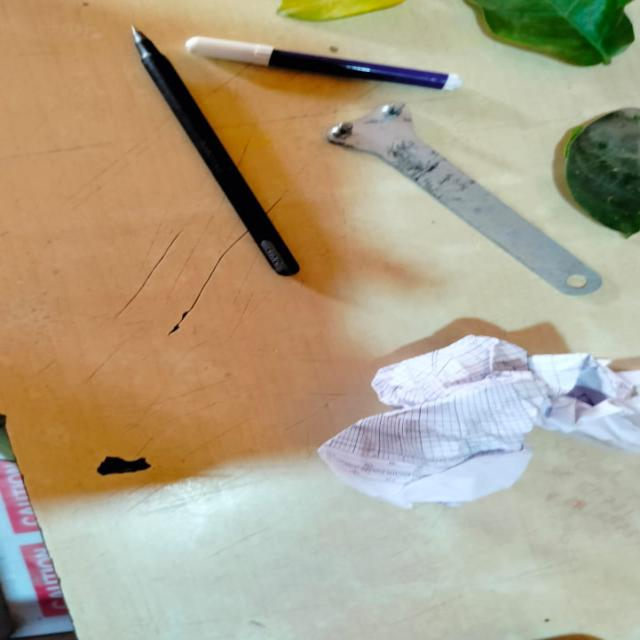Leaves: (458, 0, 636, 70), (558, 108, 640, 239), (276, 0, 411, 26)
Metal: (323, 108, 604, 302)
Paper: (315, 338, 601, 512)
Pen: (129, 28, 298, 279), (187, 37, 463, 92)
